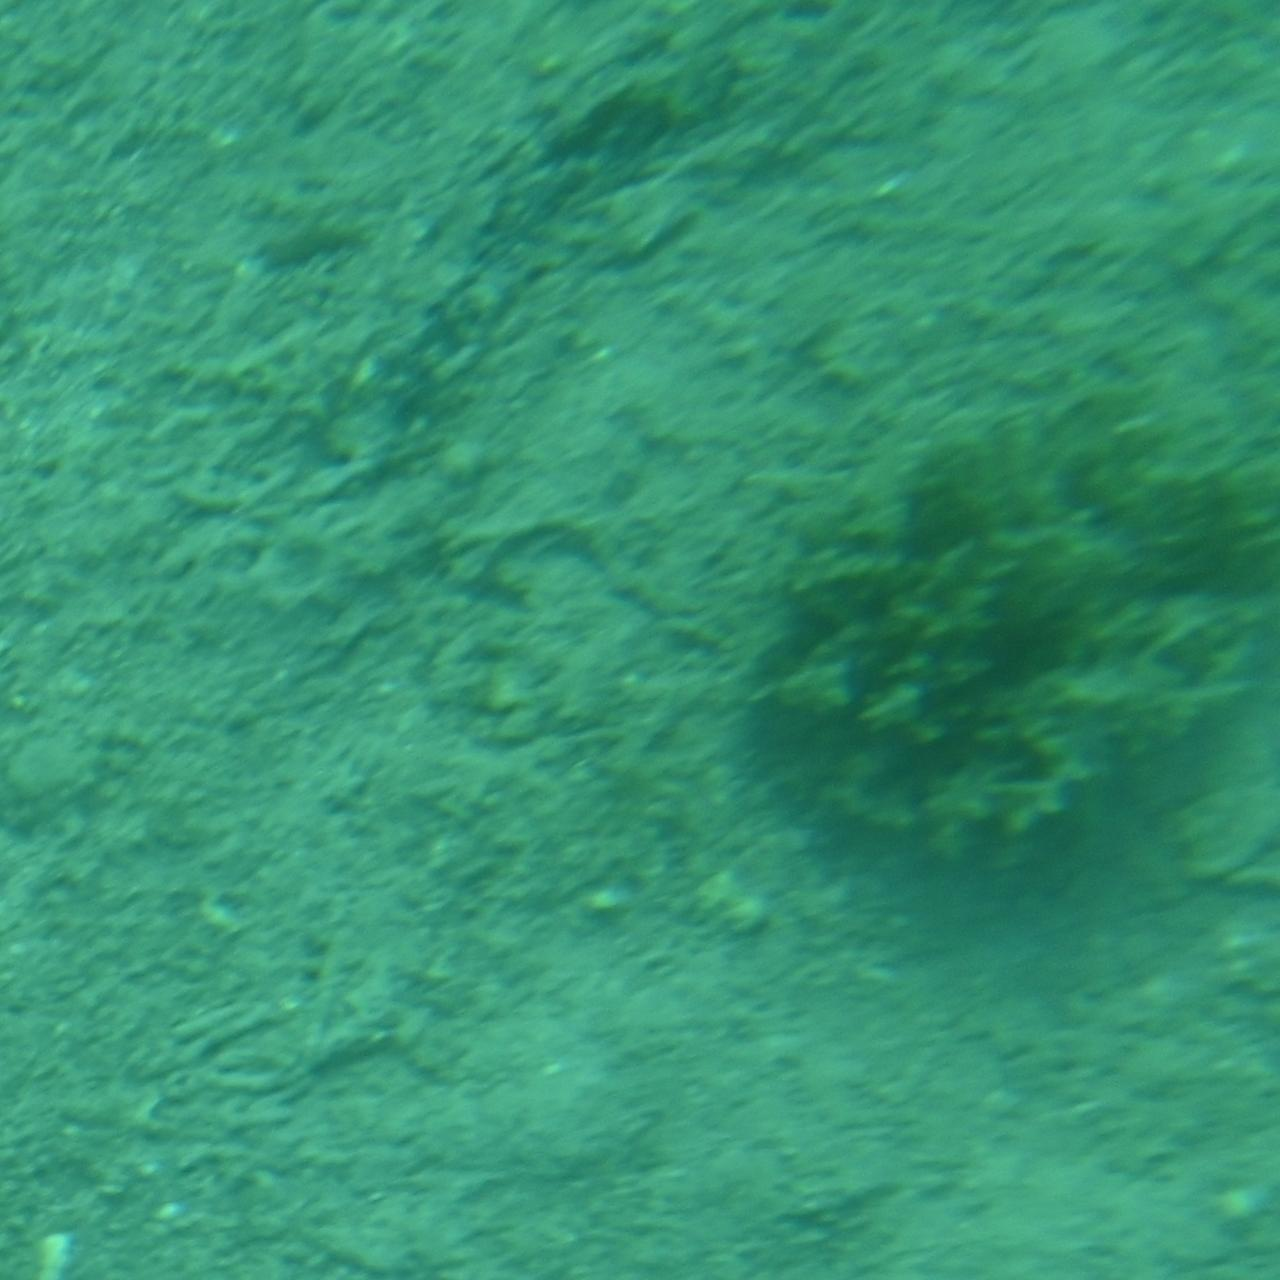Phaeophyceae -cfr Cystoseira-: (741, 381, 1279, 899)
